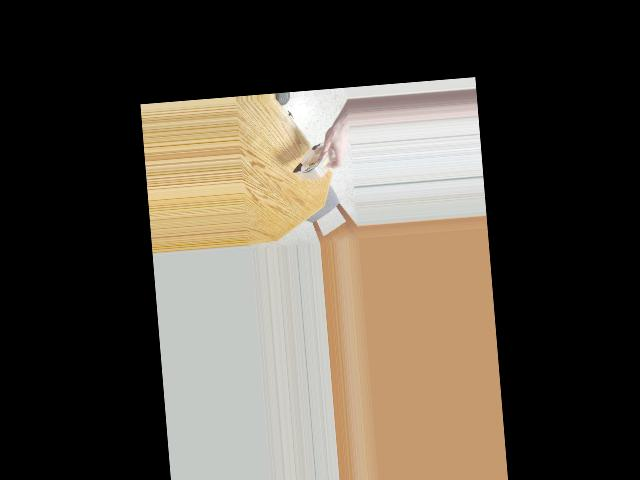cheese: (292, 127, 339, 189)
